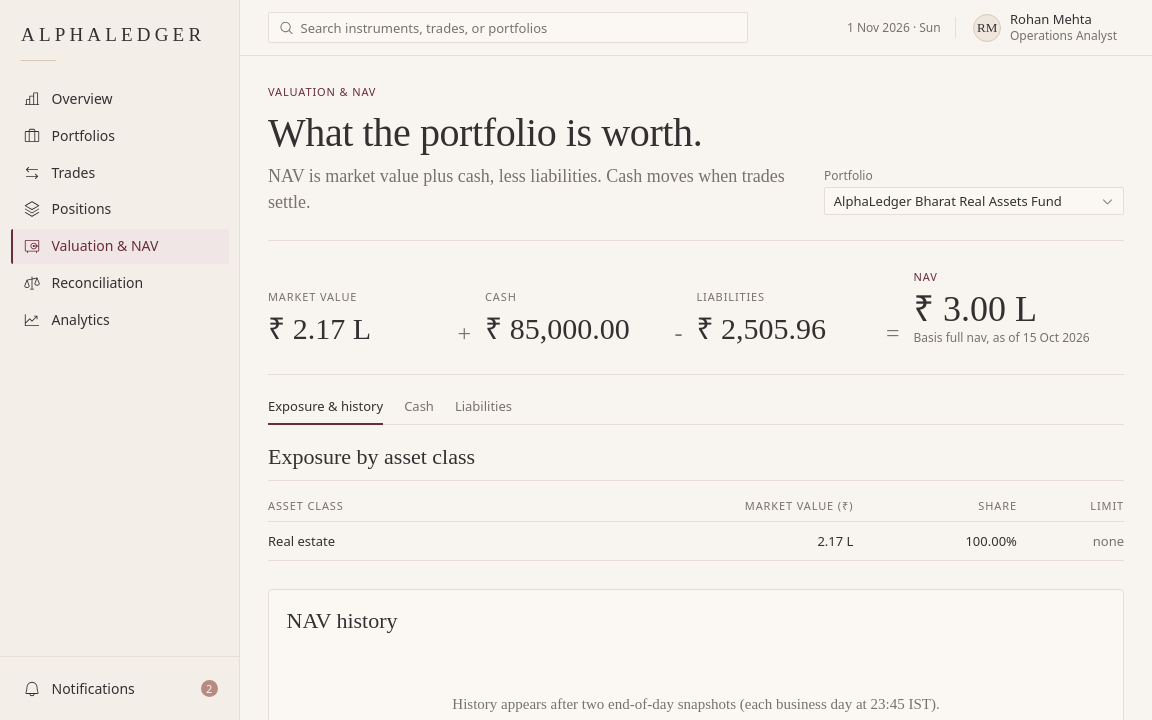
Test: cash › shows the service's refusal when a withdrawal exceeds the balance
The width and height of the screenshot is (1152, 720).
Click the tab "Cash" at [419, 411], box [404,396,434,425]
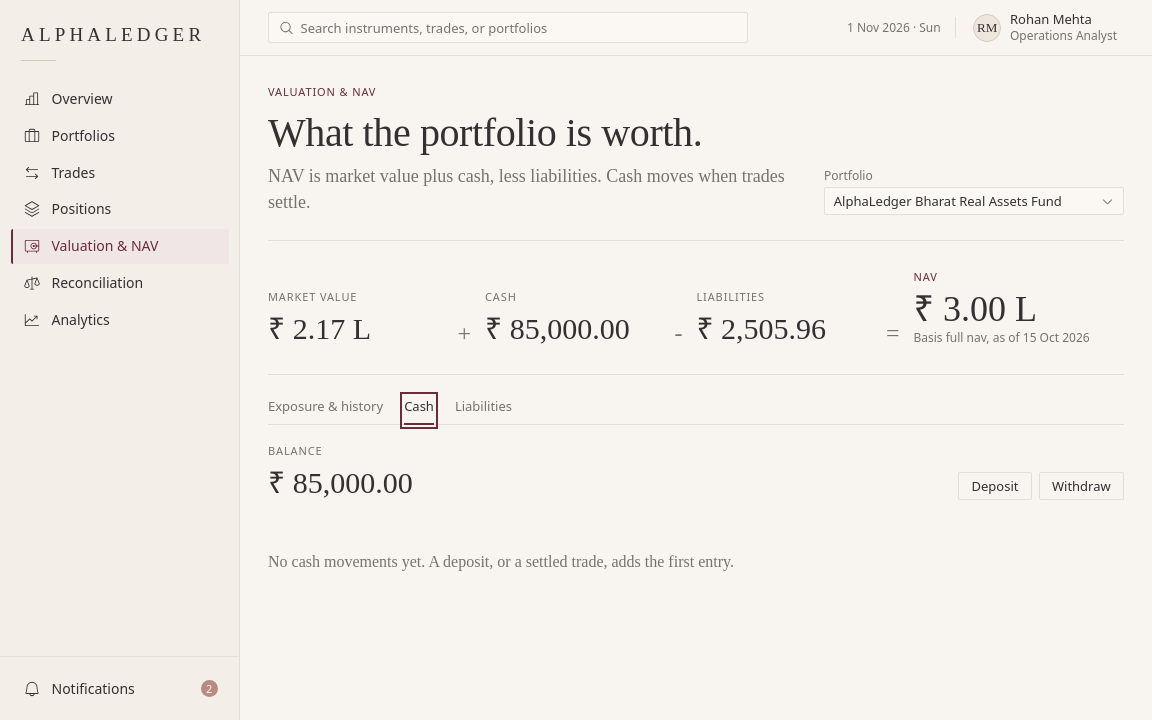
Click the button "Withdraw" at [1081, 486], box [1039,472,1124,500]
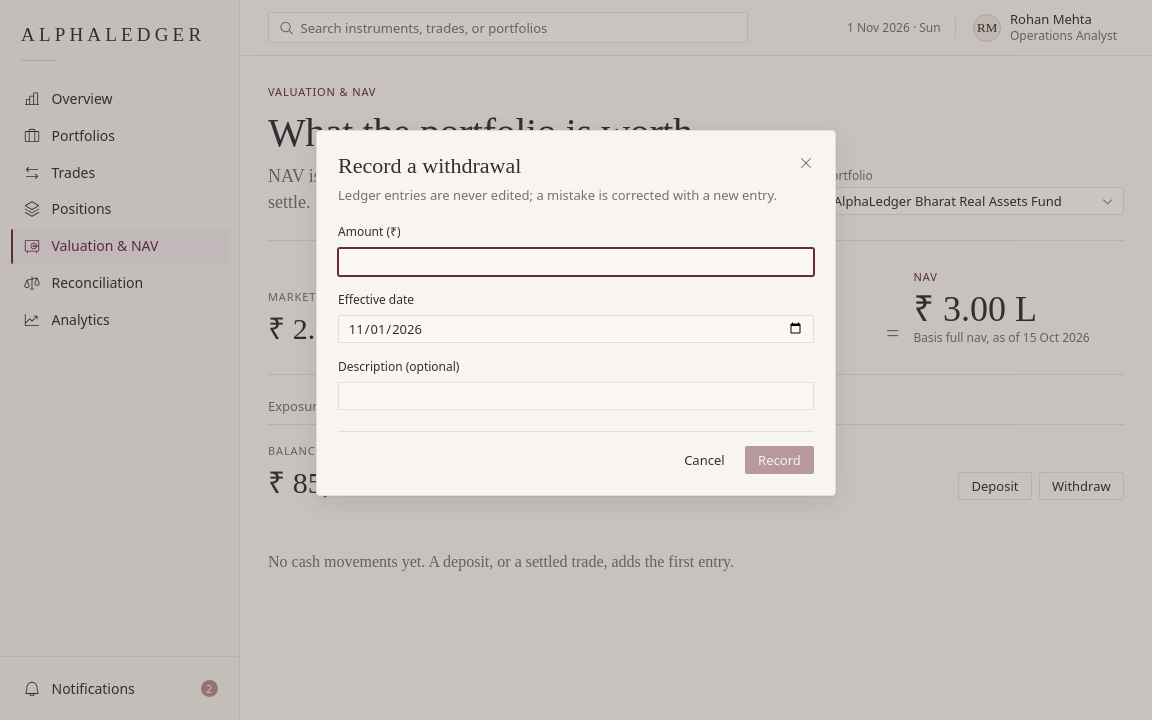
Type "90000" into the field labelled "Amount (₹)" at [576, 262], box [338,248,814,276]
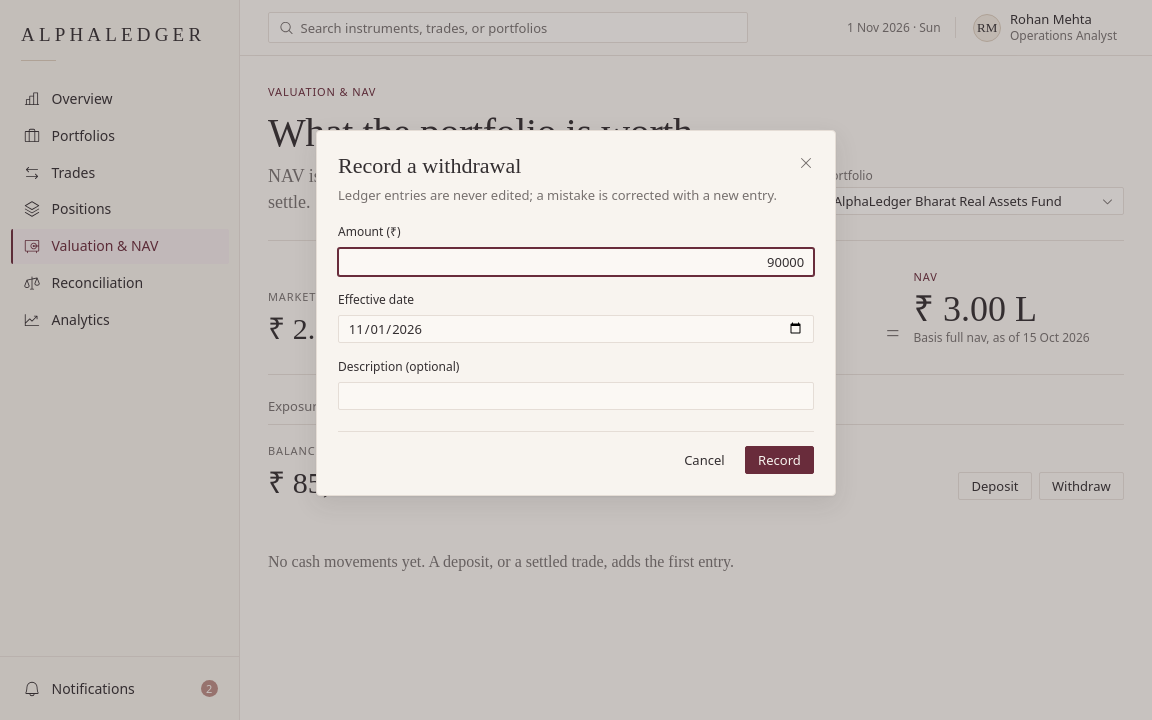
Click the button "Record" at [779, 460], box [745,446,814,474]
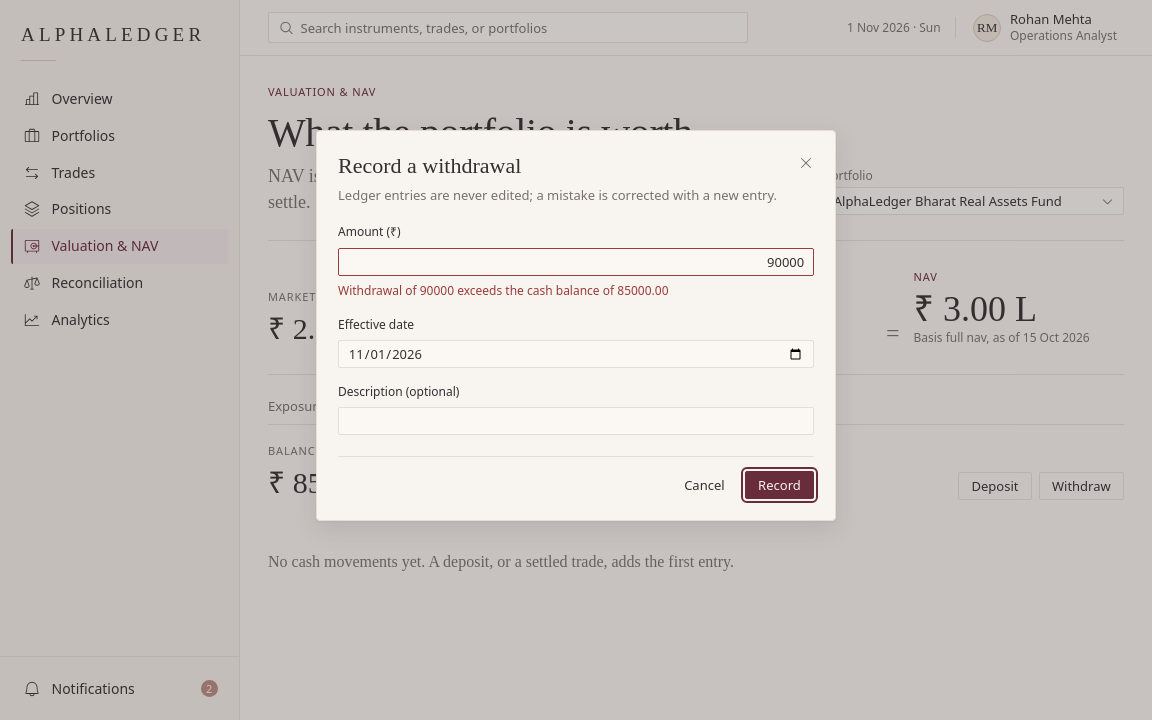
Expected: the text "Withdrawal of 90000 exceeds the cash balance of 85000.00" is shown, [338,282,668,299]
